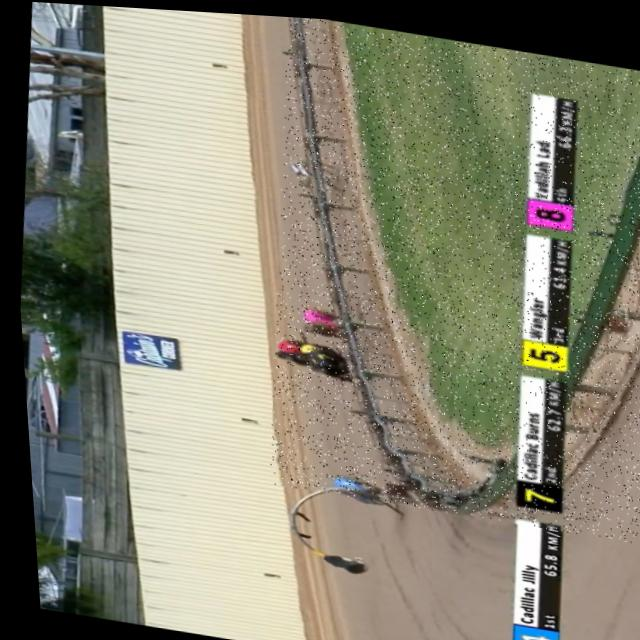dog_eight: (303, 305, 333, 322)
dog_five: (297, 337, 319, 350)
dog_four: (331, 472, 360, 488)
dog_one: (275, 334, 303, 352)
dog_seven: (309, 345, 338, 360)
dog_two: (290, 157, 312, 174)
rail: (288, 13, 640, 506)
